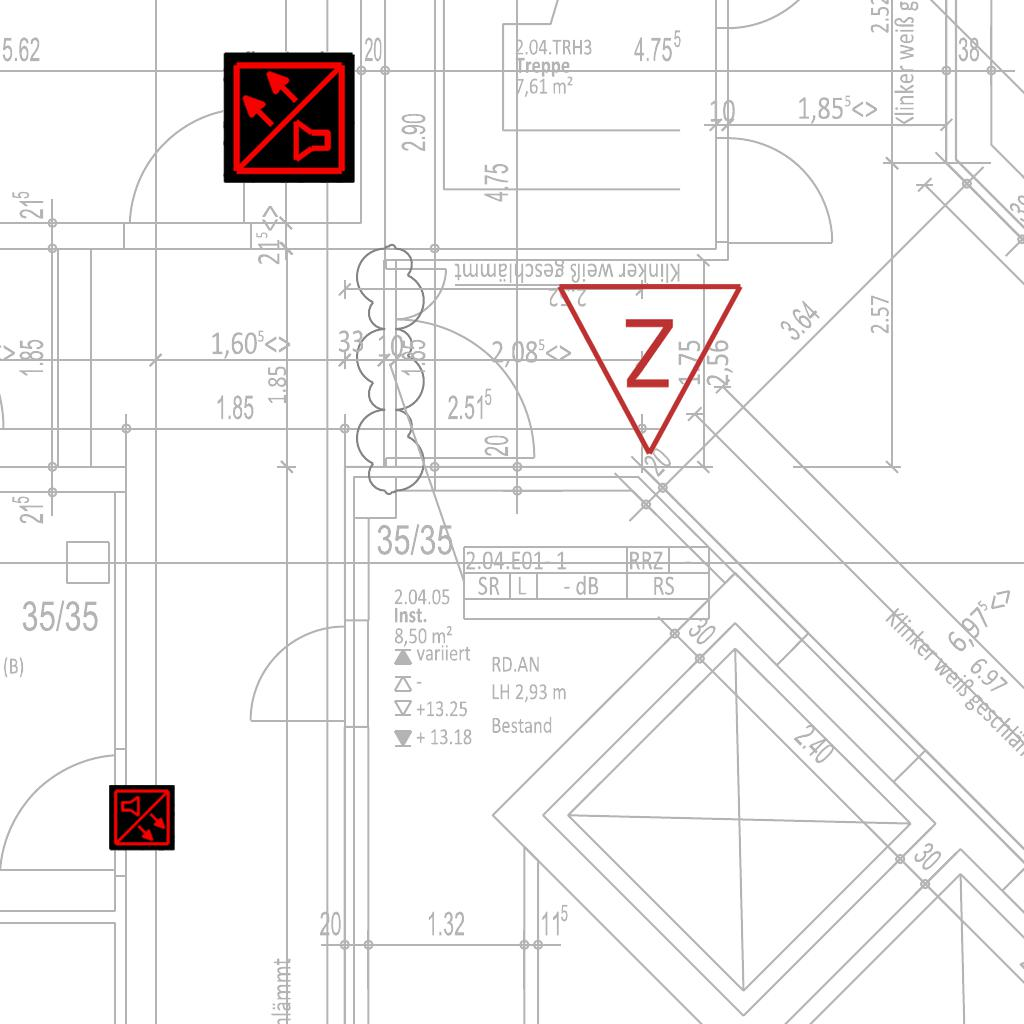OKW_Multisensormelder_(Kombination_optischer_Rauch-Kahlenmonoxid_Waerme-Melder): (223, 51, 355, 183), (109, 785, 175, 851)
Zimmersignalleuchte: (554, 269, 750, 469)
